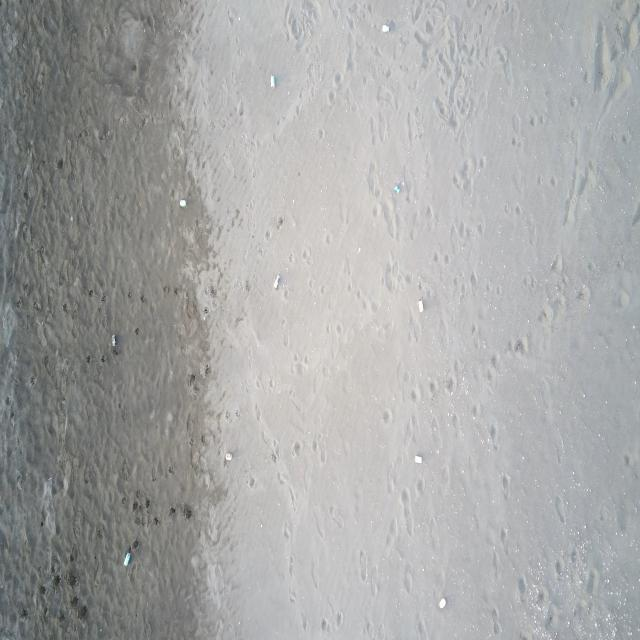tin-and-aluminum-cans: (123, 550, 131, 568), (273, 274, 281, 290), (417, 298, 424, 314), (381, 24, 392, 34), (438, 597, 446, 610), (413, 454, 423, 464), (179, 199, 187, 210), (271, 74, 277, 88), (225, 452, 233, 462), (394, 184, 401, 193), (112, 334, 116, 348)
